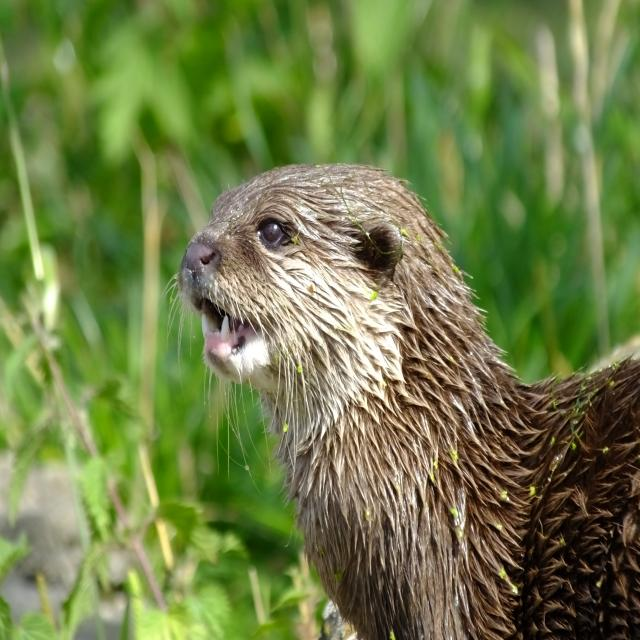otter: (184, 165, 640, 640)
